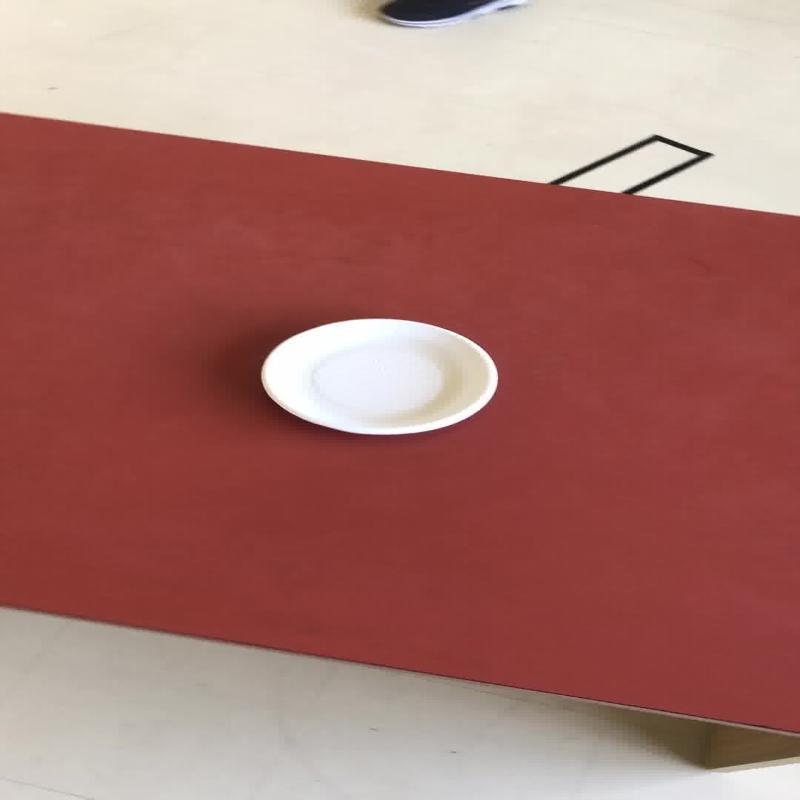plate: (259, 316, 498, 435)
